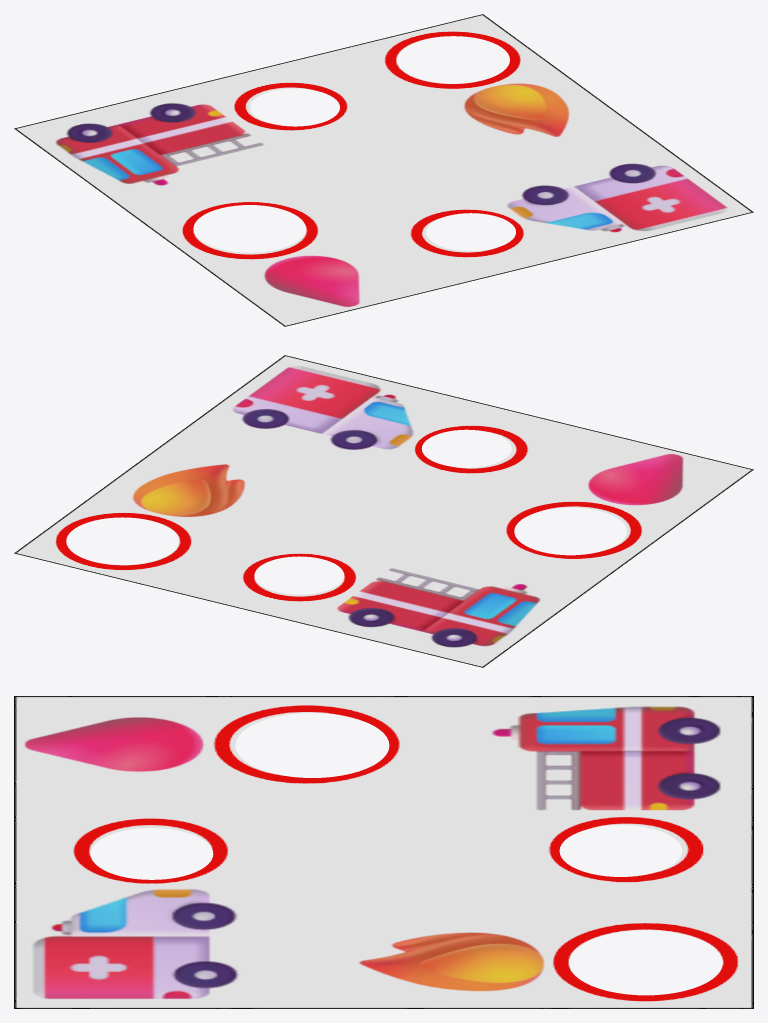
File: Task04_Torpedoes_ver2_board_front.obj
The picture shows the model from 3 angles, top to bottom: view 1: azimuth 30°, elevation 25°; view 2: azimuth 150°, elevation 25°; view 3: azimuth 270°, elevation 25°; orthographic projection. The views are drawn at different scales.
Parts seen in each view (by area): view 1: target_board; view 2: target_board; view 3: target_board.
Part boxes in pixels (bbox=[...]): target_board: bbox=[14, 14, 753, 326]; target_board: bbox=[14, 355, 753, 667]; target_board: bbox=[14, 696, 753, 1008].
Size of the model in its own units: 0.6264 by 0 by 0.6264.
1 material, 1 textured.
